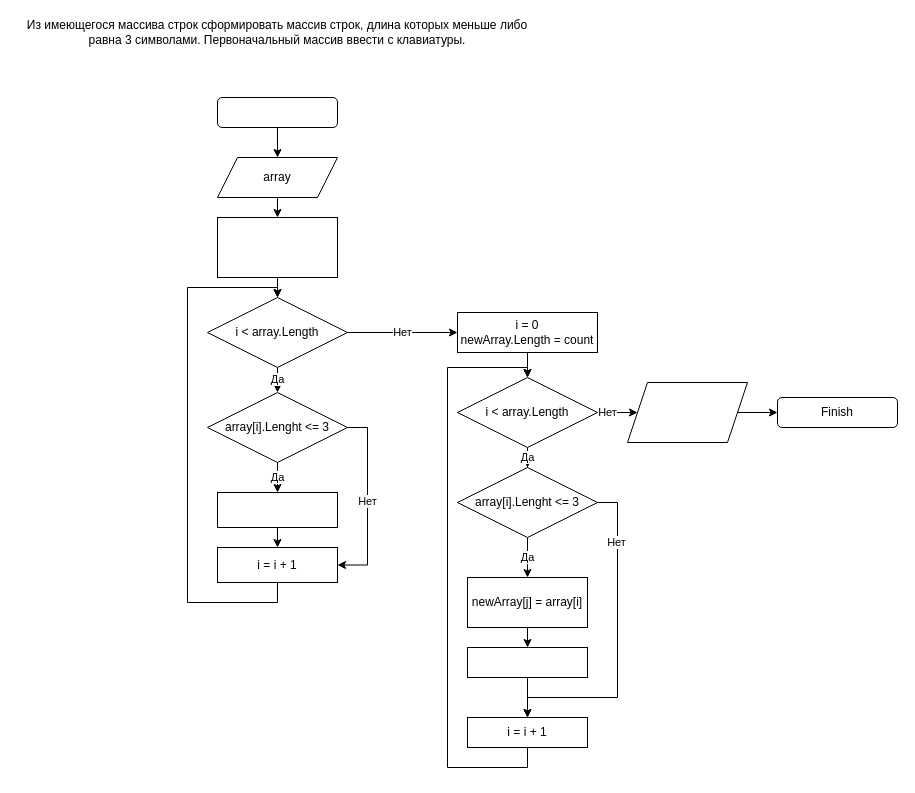
This 915x793 diagram has some shape labels left out. Here are the shapes that lost their labels. From the top down, the centre of each, then its label:
At point (277, 112): "Start".
At point (277, 247): "i = 0 j = 0 count = 0".
At point (687, 412): "newArray".
At point (277, 510): "count = count + 1".
At point (527, 662): "j = j + 1".
